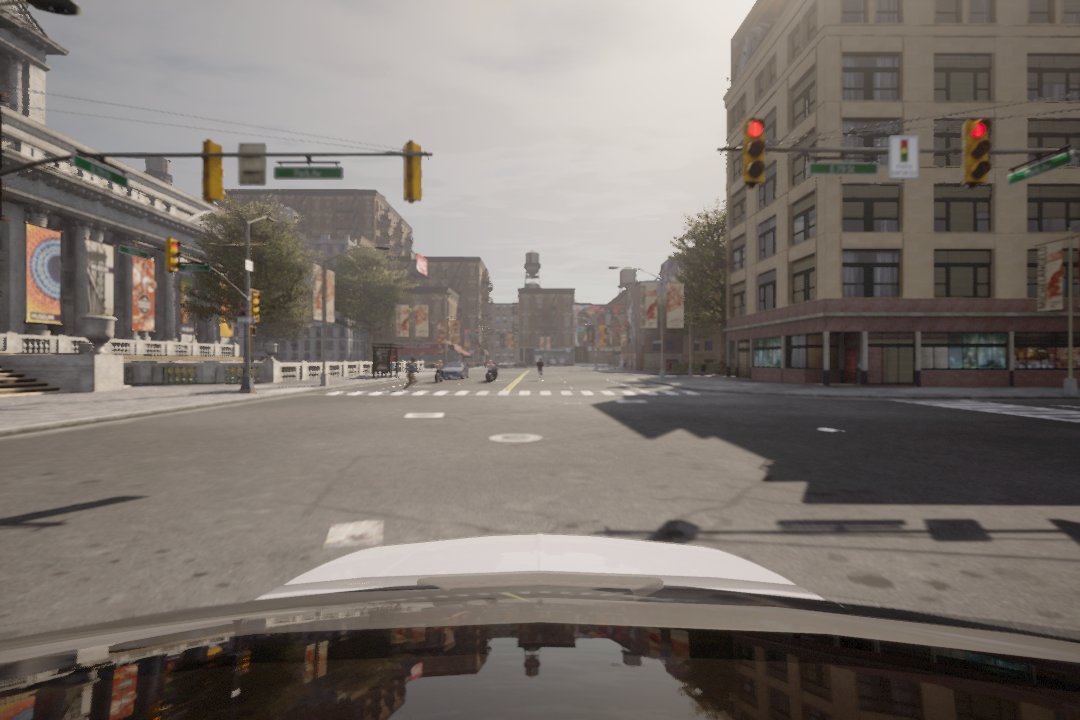TrafficLight: (965, 111, 997, 189), (738, 119, 768, 186)
walkside: (314, 387, 701, 402)
